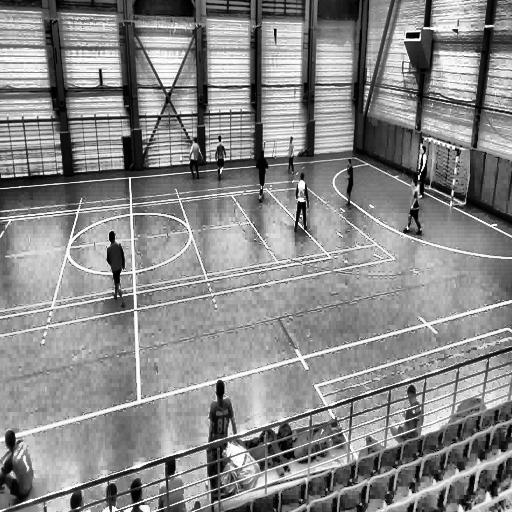ball: (178, 156, 183, 166)
player: (107, 231, 126, 306), (293, 171, 310, 233), (404, 178, 422, 236), (256, 148, 269, 202), (344, 156, 355, 209), (418, 144, 428, 200), (214, 136, 226, 182), (189, 138, 202, 180), (287, 136, 296, 175)
